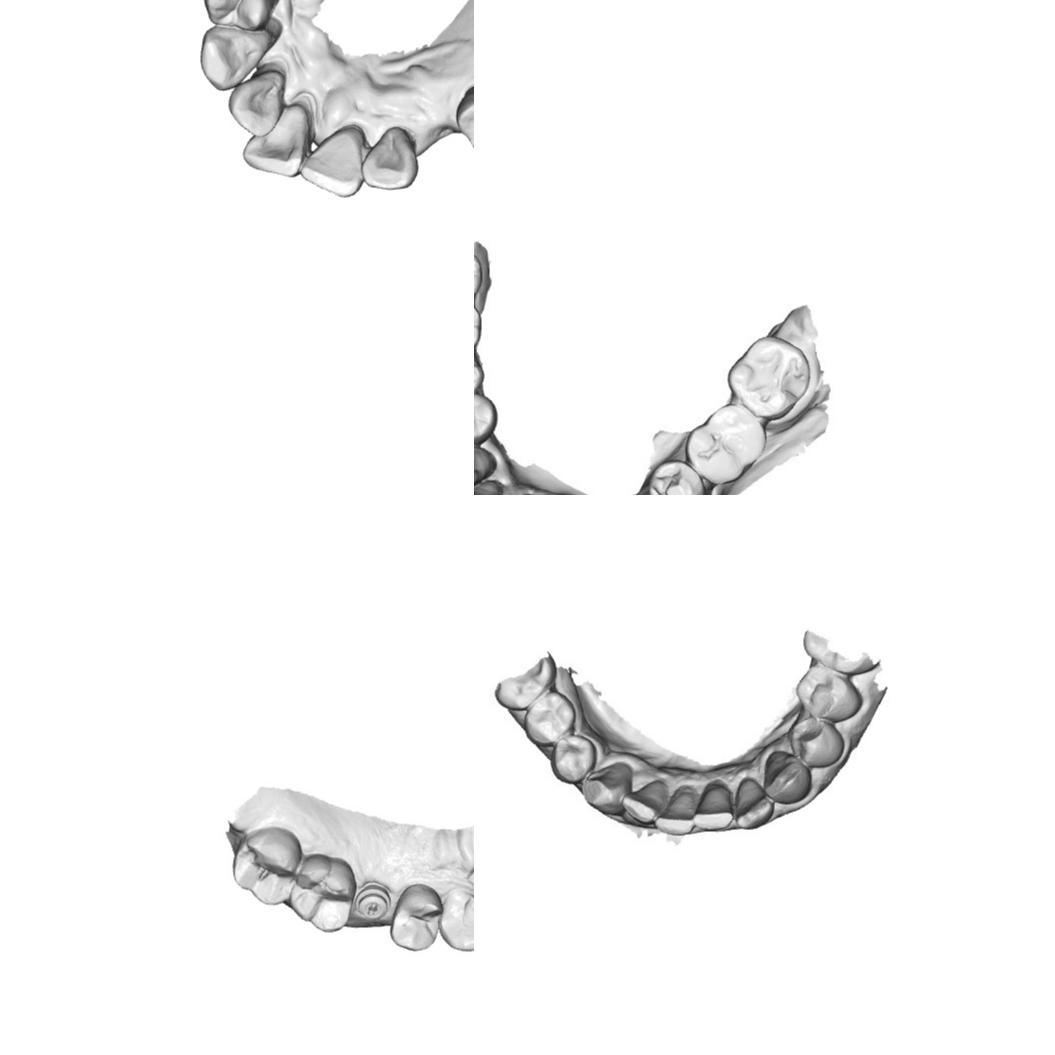canine: (197, 25, 274, 93), (581, 761, 632, 817), (763, 750, 811, 805), (437, 885, 474, 952), (474, 436, 495, 490)
implant_minus: (354, 881, 391, 921)
incisor: (240, 101, 313, 178), (226, 68, 289, 139), (297, 132, 364, 198), (359, 127, 419, 193), (620, 779, 668, 825), (734, 777, 775, 829), (654, 786, 696, 835), (692, 784, 734, 831)
molar: (723, 335, 810, 422), (686, 400, 765, 484), (232, 825, 302, 906), (288, 851, 356, 932), (474, 247, 488, 303)
premolar: (795, 664, 862, 723), (389, 882, 444, 952), (523, 690, 576, 747), (788, 718, 845, 768), (201, 0, 278, 34), (550, 734, 596, 784), (644, 458, 701, 495), (452, 85, 474, 160), (474, 396, 501, 444), (474, 353, 488, 398)
